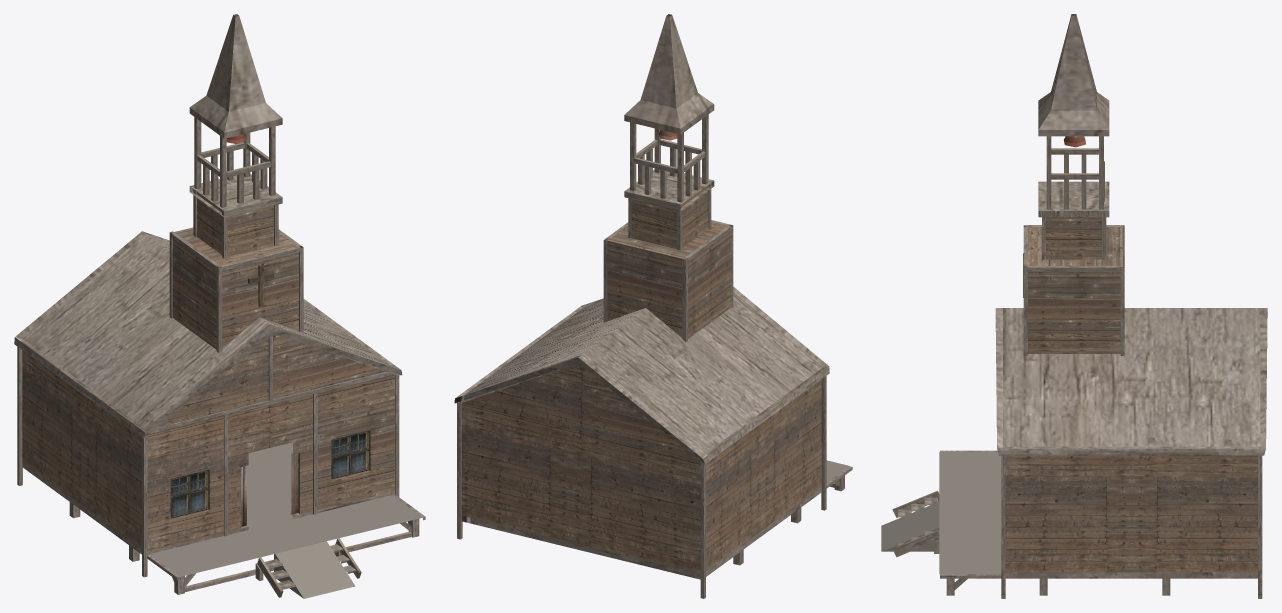
File: church.walls-v2.lod1.glb
3 renders of one model, left to right at view 1: azimuth 30°, elevation 25°; view 2: azimuth 150°, elevation 25°; view 3: azimuth 270°, elevation 25°, orthographic. The views are drawn at different scales.
Visible parts, largest first — view 1: Object079_Material #30_0, Walkable floors and stairs; view 2: Object079_Material #30_0; view 3: Object079_Material #30_0, Walkable floors and stairs.
Boxes of the visible parts, x1,y1,x2,y2 form: Object079_Material #30_0: (14, 14, 425, 597); Walkable floors and stairs: (150, 442, 422, 598); Object079_Material #30_0: (454, 14, 852, 598); Object079_Material #30_0: (892, 14, 1267, 598); Walkable floors and stairs: (881, 452, 1001, 574).
Size of the model in its own units: 8.52 by 16 by 10.69.
Materials: 2 (1 with a texture image).
